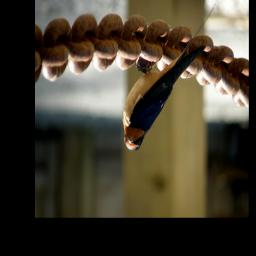Swallow: (122, 2, 218, 152)
